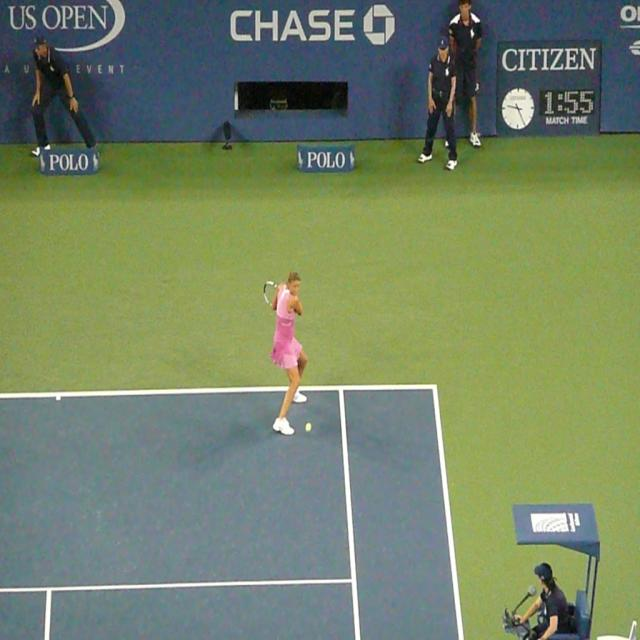Tennis ball: (306, 423, 312, 430)
